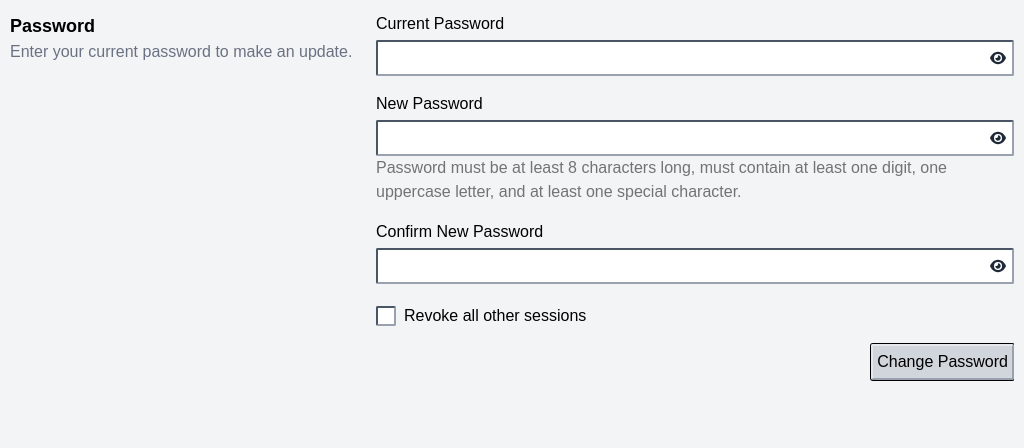
Test: Change/Set Password Form › should disable the submit button during the change password form submission and show a success message on successful submission
The image size is (1024, 448).
In the password field with test id "change-password_input-password_current-password": [695, 58] box [376,40,1014,76], type "Password123!"
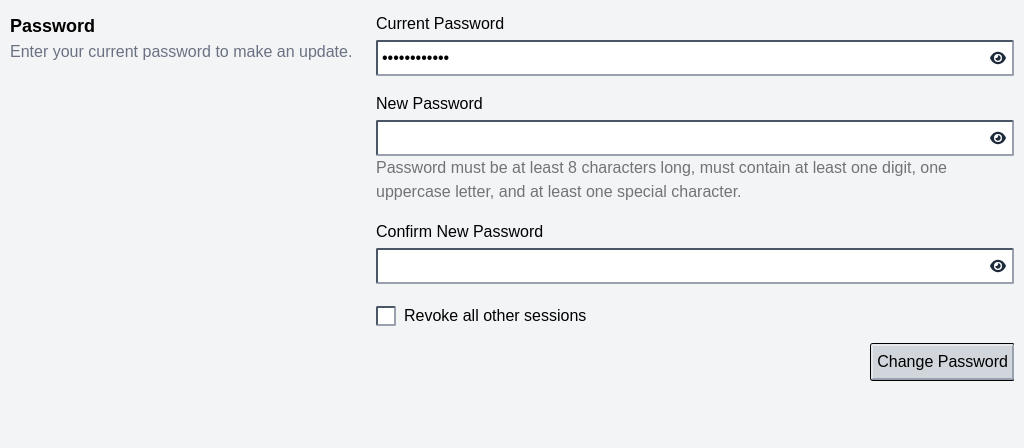
In the password field with test id "change-password_input-password_new-password": [695, 138] box [376,120,1014,156], type "Password1234!"
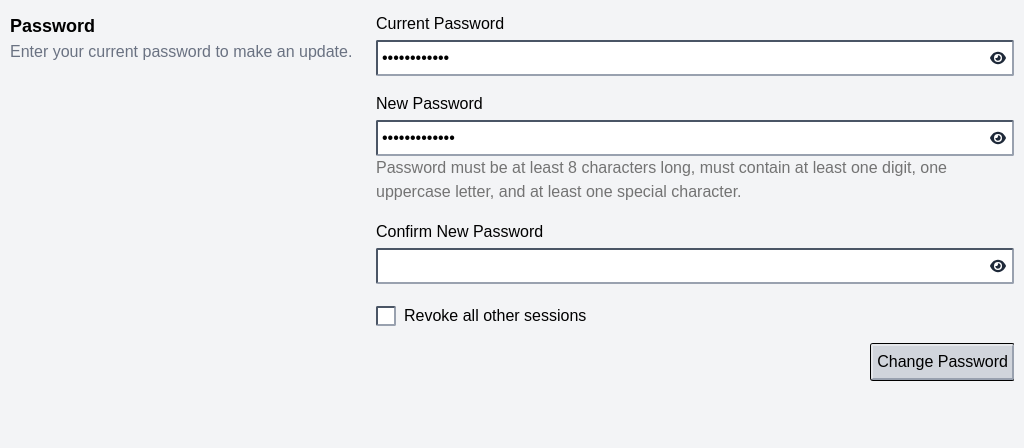
In the password field with test id "change-password_input-password_confirm-new-password": [695, 266] box [376,248,1014,284], type "Password1234!"
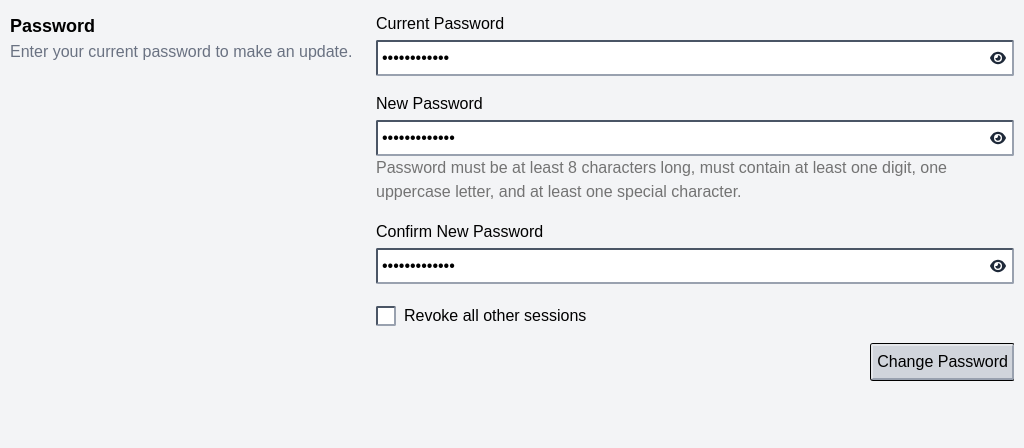
Click the button "Change Password": [943, 362] box [871,344,1014,380]
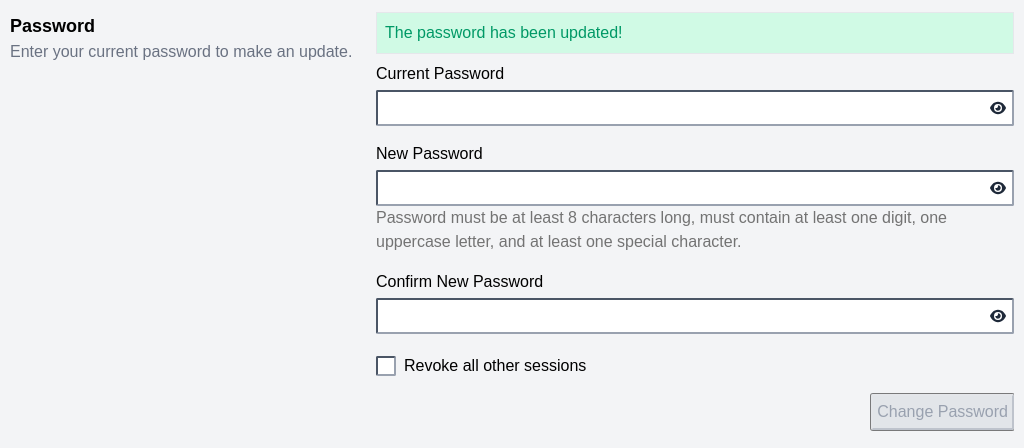
Check: the button "Change Password" is disabled, box [871,394,1014,430]
Check: the text "The password has been updated!" is shown, box [376,12,1014,54]
